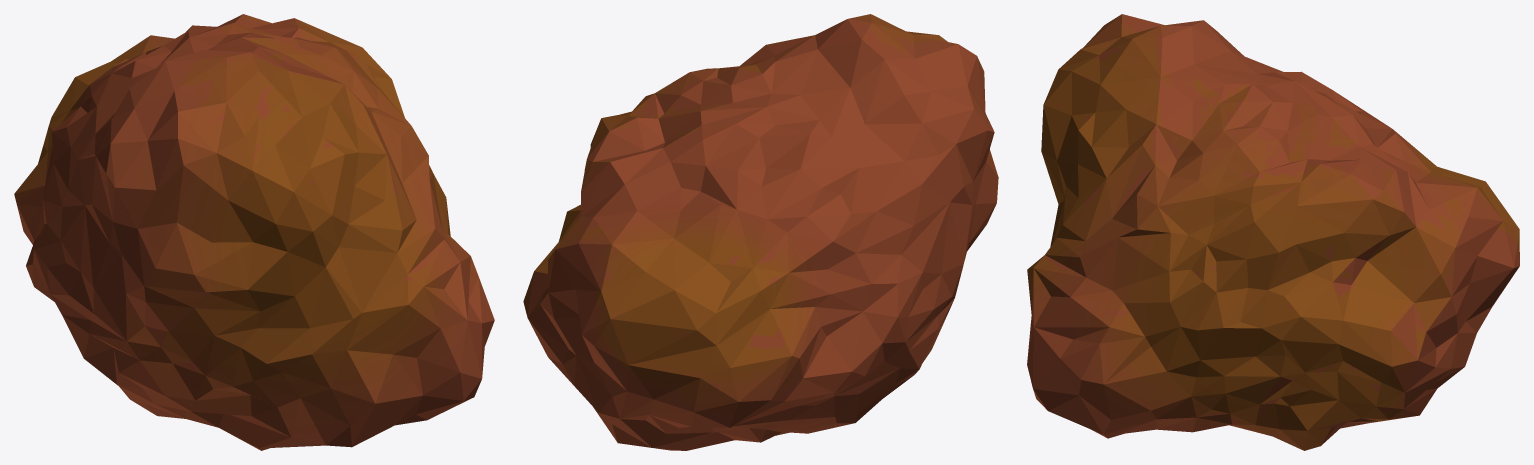
The model's file is Egeria-f888.glb.
3 renders of one model, left to right at view 1: azimuth 30°, elevation 25°; view 2: azimuth 150°, elevation 25°; view 3: azimuth 270°, elevation 25°, orthographic. The views are drawn at different scales.
Visible parts, largest first — view 1: Egeria; view 2: Egeria; view 3: Egeria.
Boxes of the visible parts, x1,y1,x2,y2 form: Egeria: [14, 14, 494, 450]; Egeria: [523, 14, 998, 450]; Egeria: [1027, 14, 1519, 450].
Size of the model in its own units: 2.11 by 2.24 by 2.73.
Materials: 1 (1 with a texture image).
